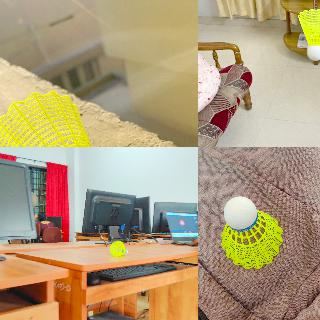shuttlecock: (0, 89, 128, 146), (220, 196, 282, 268), (297, 8, 319, 61), (109, 240, 128, 256)
